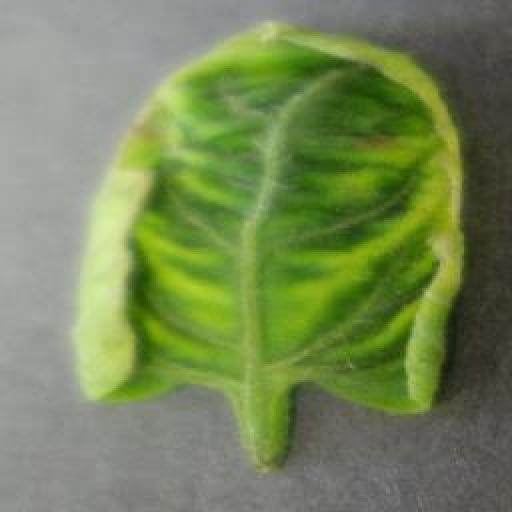Yellow Leaf Curl Virus: (72, 17, 467, 419)
